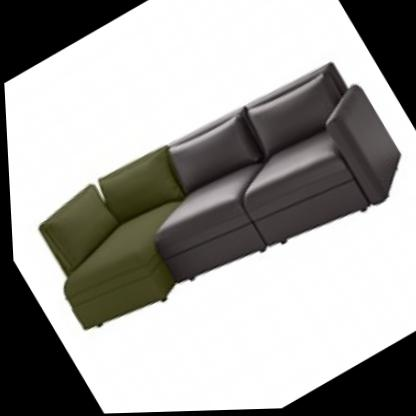Sofa: (1, 12, 416, 387)
